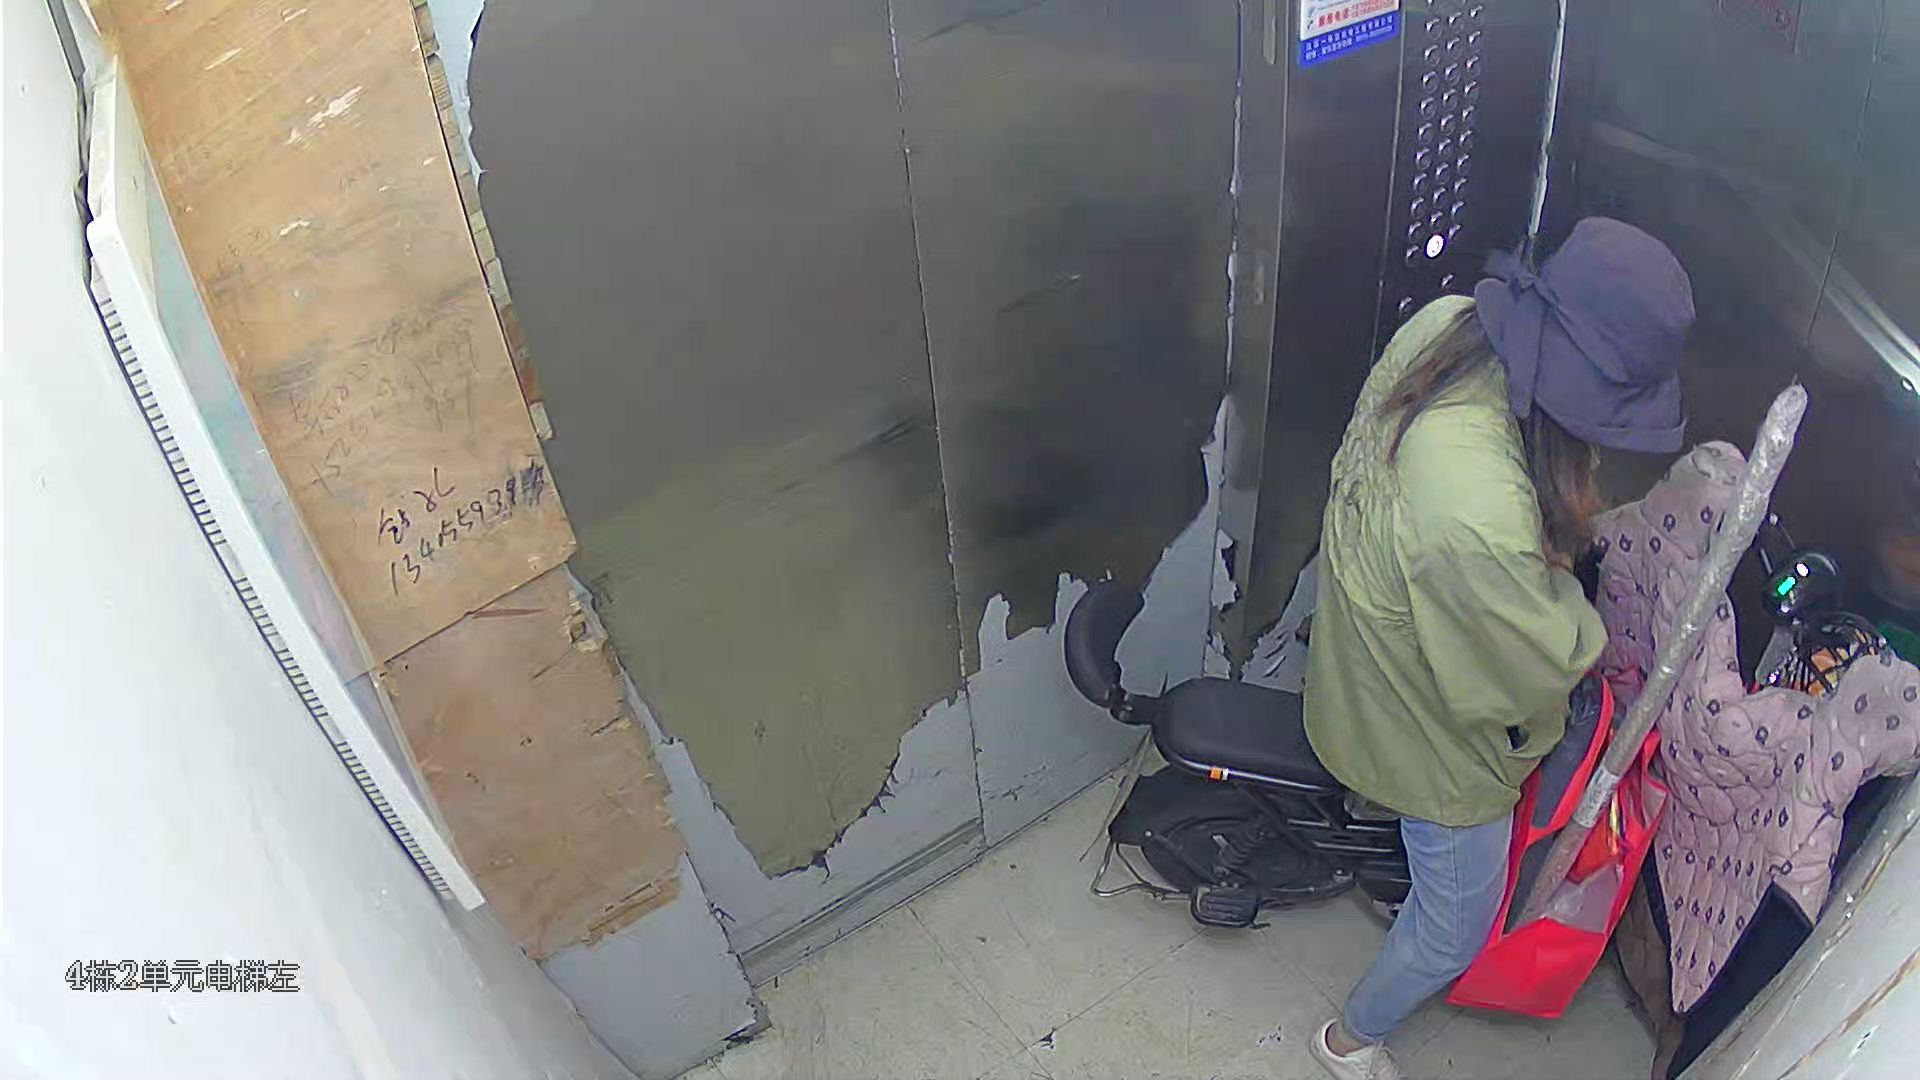Electric-bicycle: (1065, 442, 1915, 963)
